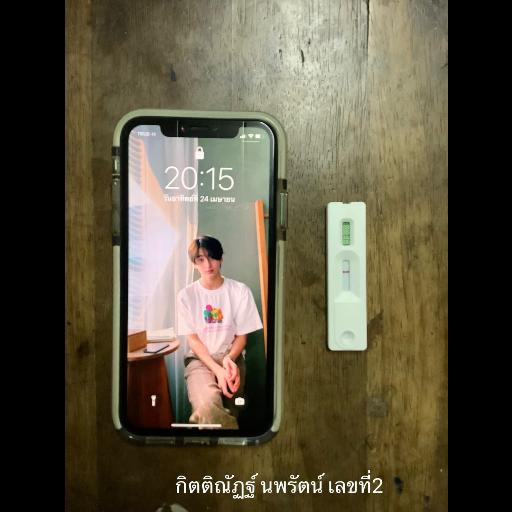Neg: (326, 202, 366, 352)
